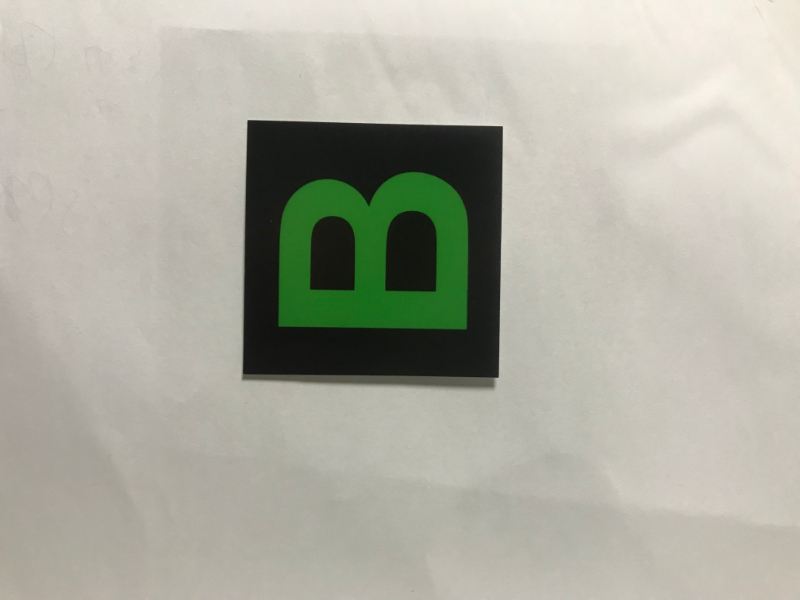B-12: (252, 126, 494, 370)
